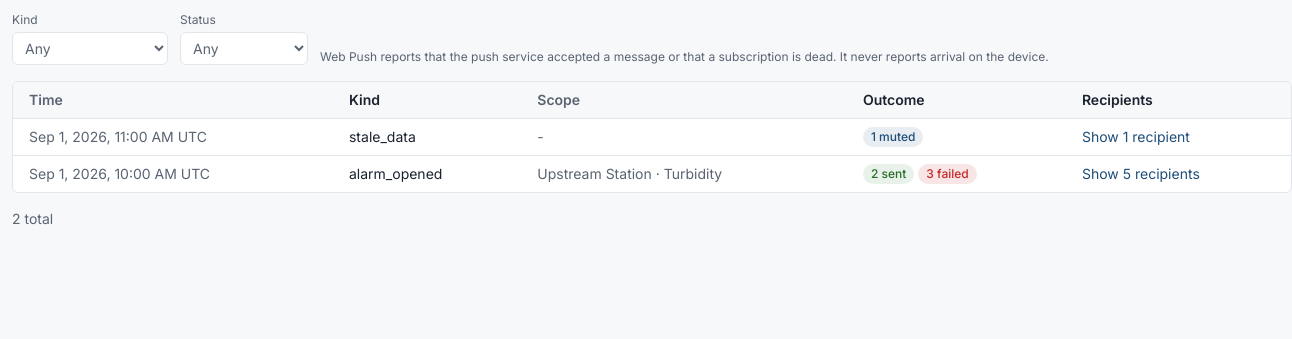
Test: DeliveryLogPanel › shows the recipients and their errors when a message is expanded
The width and height of the screenshot is (1292, 339).
Expected: the text "device-b" is not shown
Click the button "Show 5 recipients": (1141, 174) [1082,164,1200,184]
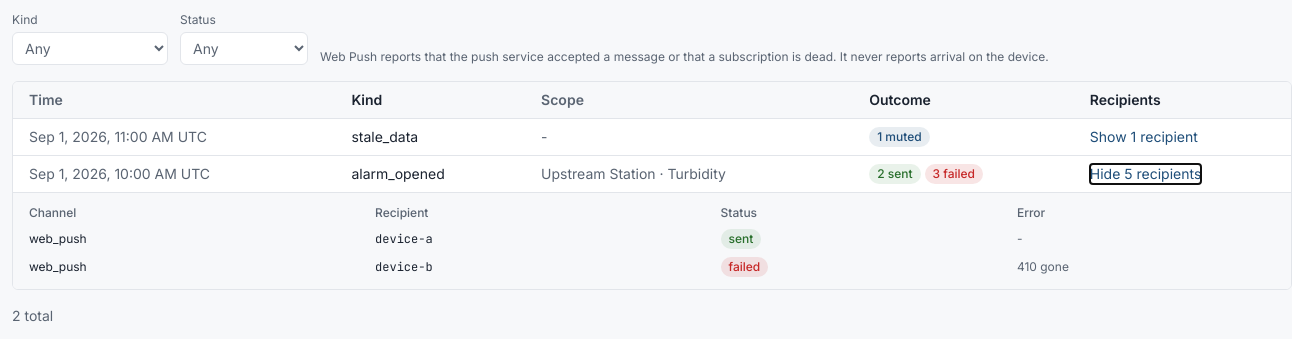
Expected: the text "device-b" is shown, [375,253,721,281]
Expected: the text "410 gone" is shown, [1017,253,1275,281]
